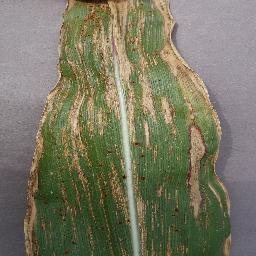Gray_Leaf_Spot: (18, 0, 234, 256)
